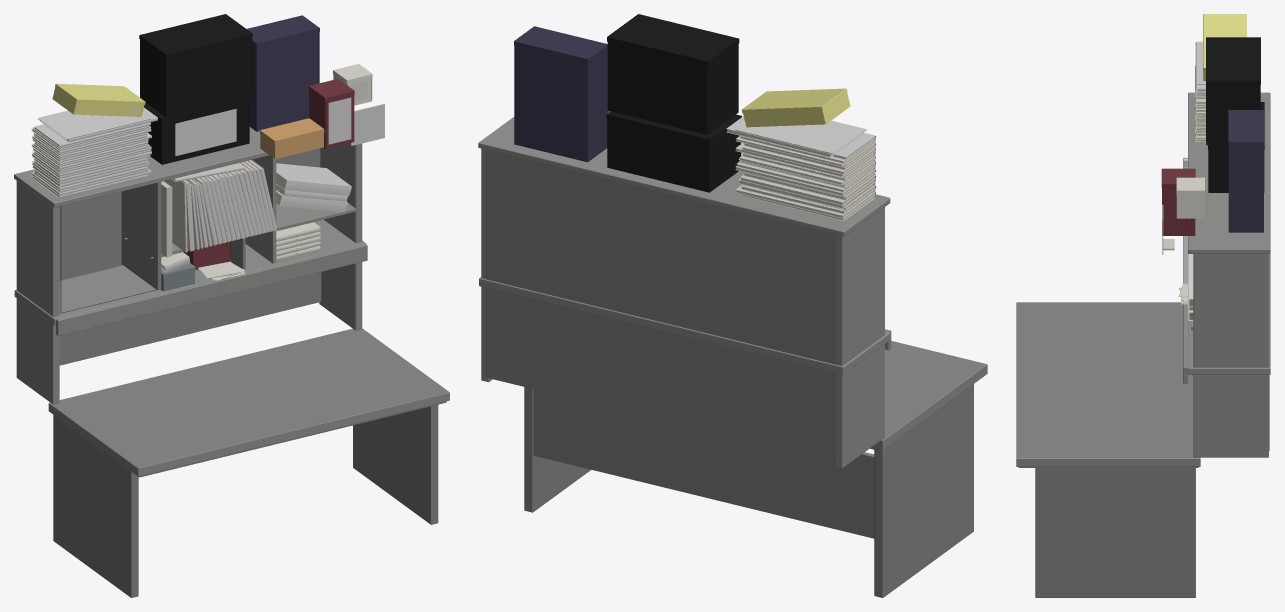
Rendered from desk-furniture.glb.
3 views of the same model, side by side, from view 1: azimuth 30°, elevation 25°; view 2: azimuth 150°, elevation 25°; view 3: azimuth 270°, elevation 25° (orthographic). The views are drawn at different scales.
Parts seen in each view (by area): view 1: Furniture | wood_gray_ash_laminate, Furniture | wood_edge_band_silver_ash.001, Furniture | wood_backing_gray_ash.001, Furniture | Charcoal coated carton.001, Furniture | Indigo carton and cloth covers.002, Furniture | wood_gray_ash_laminate.001, Furniture | Printed ink labels only | source photograph crop (×3), Furniture | wood_edge_band_silver_ash, Furniture | Charcoal coated carton.002, Furniture | Lemon yellow carton.001, Furniture | Warm ivory eggshell painted MDF, Furniture | Warm orange paper.001 (+9 smaller); view 2: Furniture | wood_backing_gray_ash.001, Furniture | wood_backing_gray_ash, Furniture | wood_gray_ash_laminate, Furniture | wood_edge_band_silver_ash.001, Furniture | Charcoal coated carton.001, Furniture | Indigo carton and cloth covers.002, Furniture | Charcoal coated carton.002, Furniture | Lemon yellow carton.001, TopFolder02 PrintedCover, Furniture | wood_edge_band_silver_ash; view 3: Furniture | wood_gray_ash_laminate, Furniture | wood_edge_band_silver_ash.001, Furniture | Charcoal coated carton.001, Furniture | Indigo carton and cloth covers.002, Furniture | wood_edge_band_silver_ash, Furniture | Wine red paper.002, Furniture | Warm ivory eggshell painted MDF.002, Furniture | Lemon yellow carton.001, Furniture | Charcoal coated carton.002.
Part boxes in pixels (x1=…): Furniture | wood_gray_ash_laminate: x1=49, y1=328, x2=449, y2=597; Furniture | wood_edge_band_silver_ash.001: x1=14, y1=127, x2=367, y2=404; Furniture | wood_backing_gray_ash.001: x1=59, y1=148, x2=321, y2=365; Furniture | Charcoal coated carton.001: x1=139, y1=14, x2=252, y2=117; Furniture | Indigo carton and cloth covers.002: x1=247, y1=15, x2=319, y2=131; Furniture | wood_gray_ash_laminate.001: x1=121, y1=182, x2=245, y2=289; Furniture | Printed ink labels only | source photograph crop (×3): x1=175, y1=97, x2=383, y2=156; Furniture | wood_edge_band_silver_ash: x1=48, y1=392, x2=449, y2=476; Furniture | Charcoal coated carton.002: x1=144, y1=97, x2=249, y2=164; Furniture | Lemon yellow carton.001: x1=52, y1=83, x2=145, y2=116; Furniture | Warm ivory eggshell painted MDF: x1=161, y1=222, x2=320, y2=280; Furniture | Warm orange paper.001: x1=260, y1=118, x2=324, y2=159; Furniture | wood_backing_gray_ash.001: x1=486, y1=150, x2=836, y2=462; Furniture | wood_backing_gray_ash: x1=533, y1=389, x2=874, y2=538; Furniture | wood_gray_ash_laminate: x1=524, y1=341, x2=987, y2=597; Furniture | wood_edge_band_silver_ash.001: x1=478, y1=117, x2=891, y2=468; Furniture | Charcoal coated carton.001: x1=607, y1=14, x2=739, y2=134; Furniture | Indigo carton and cloth covers.002: x1=514, y1=26, x2=607, y2=162; Furniture | Charcoal coated carton.002: x1=606, y1=111, x2=741, y2=192; Furniture | Lemon yellow carton.001: x1=741, y1=88, x2=850, y2=127; TopFolder02 PrintedCover: x1=734, y1=120, x2=865, y2=153; Furniture | wood_edge_band_silver_ash: x1=883, y1=365, x2=987, y2=449; Furniture | wood_gray_ash_laminate: x1=1016, y1=302, x2=1200, y2=597; Furniture | wood_edge_band_silver_ash.001: x1=1183, y1=92, x2=1270, y2=457; Furniture | Charcoal coated carton.001: x1=1206, y1=37, x2=1260, y2=145; Furniture | Indigo carton and cloth covers.002: x1=1228, y1=110, x2=1264, y2=232; Furniture | wood_edge_band_silver_ash: x1=1016, y1=303, x2=1200, y2=466; Furniture | Wine red paper.002: x1=1161, y1=168, x2=1195, y2=235; Furniture | Warm ivory eggshell painted MDF.002: x1=1176, y1=177, x2=1204, y2=218; Furniture | Lemon yellow carton.001: x1=1203, y1=14, x2=1246, y2=80; Furniture | Charcoal coated carton.002: x1=1208, y1=102, x2=1264, y2=192.
Size of the model in its own units: 2.7 by 3.69 by 1.82.
